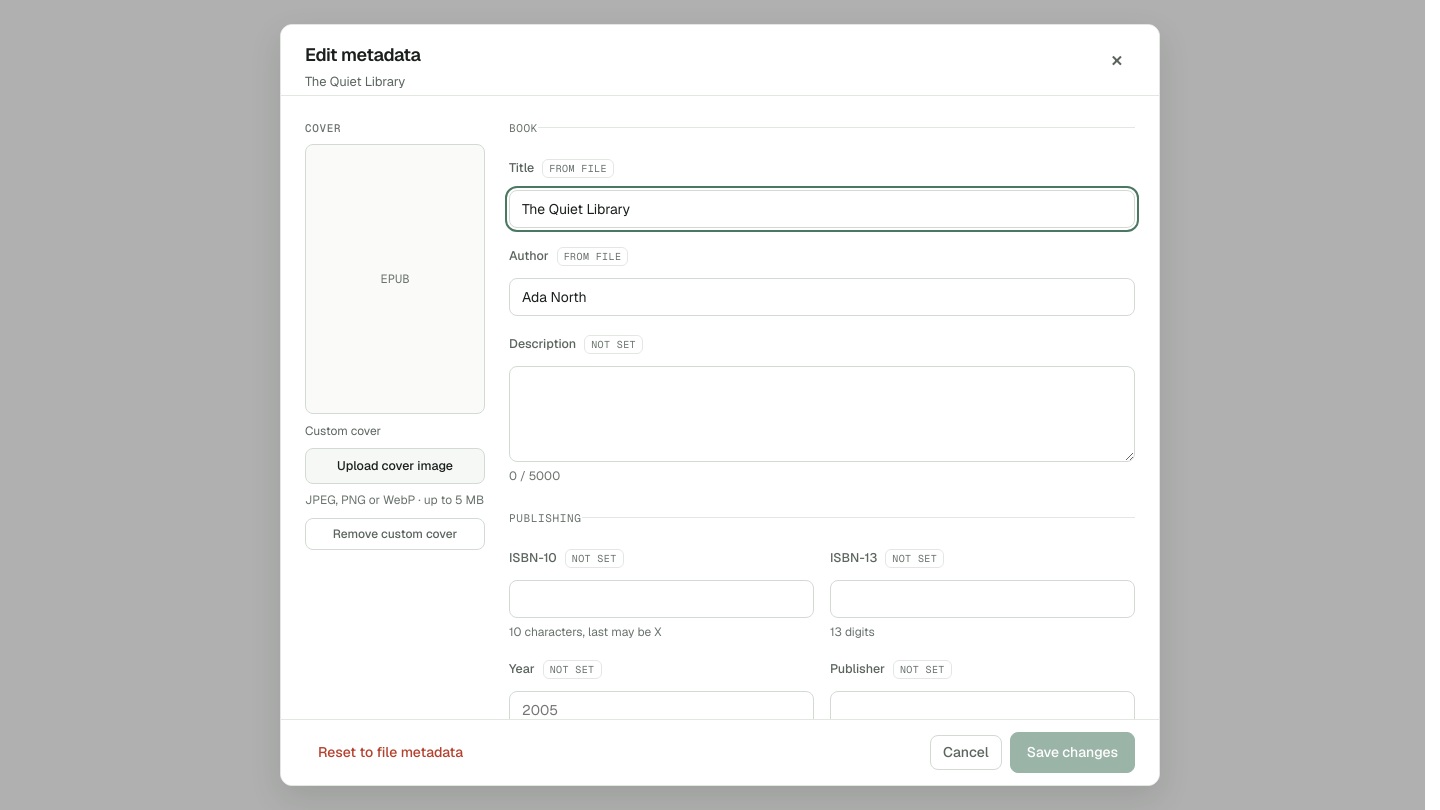
Test: EditMetadataDialog › removes a custom cover only after confirmation
Click the button "Remove custom cover": (395, 534) [305,518,485,550]
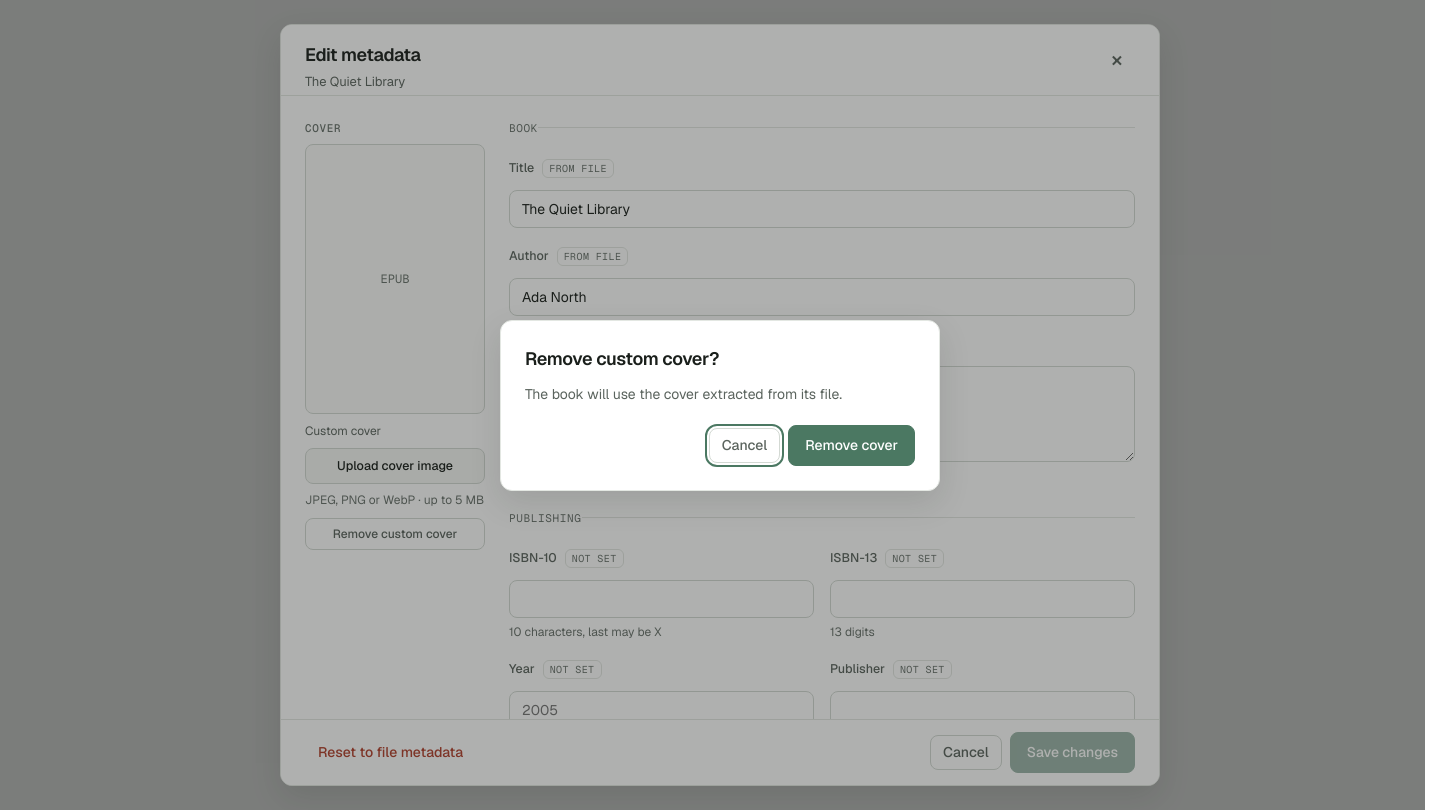
Expected: the dialog "Remove custom cover?" is shown, [500,320,940,490]
Click the button "Remove cover": (852, 445) [788,424,915,466]
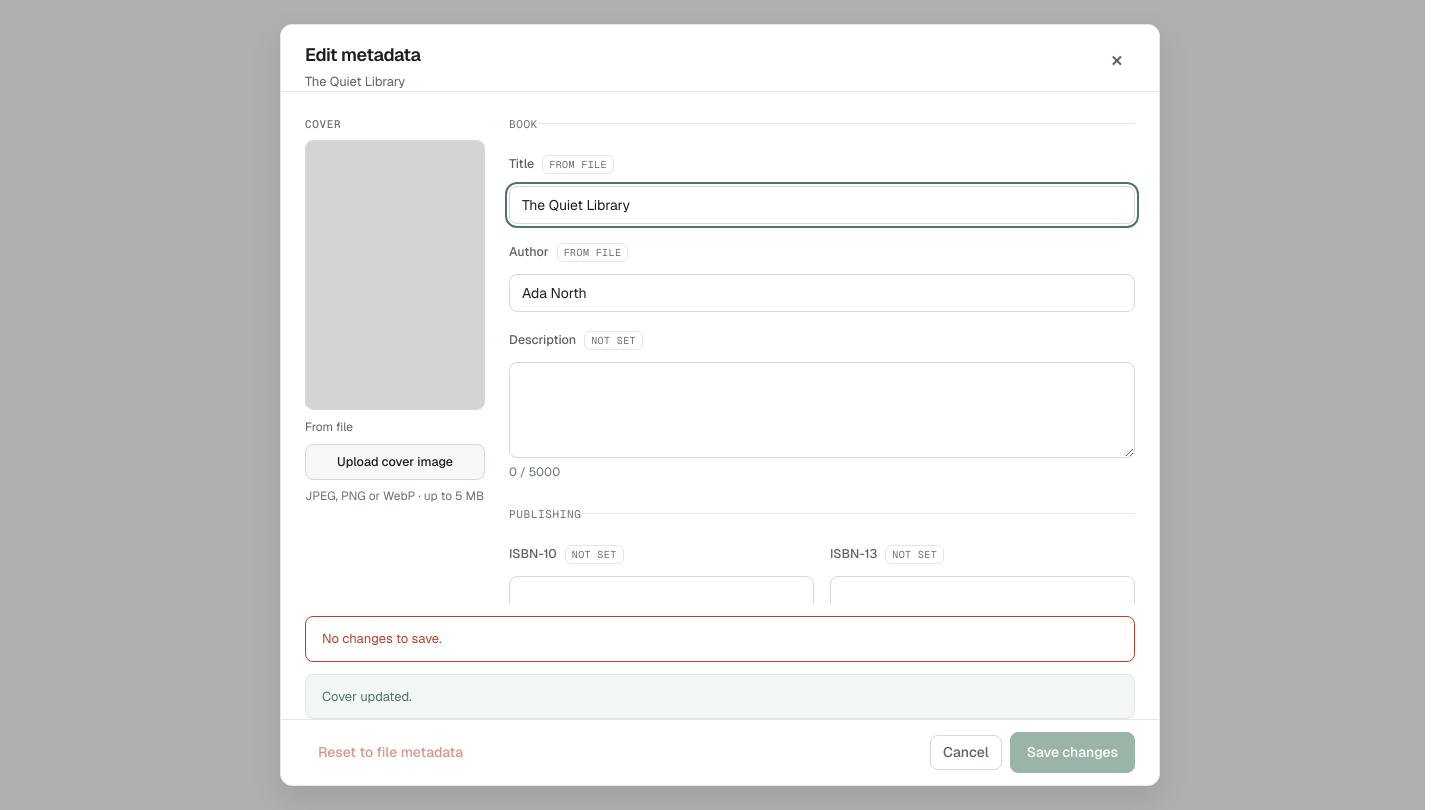
Expected: the 3rd text "From file" is shown, [305,419,353,435]
